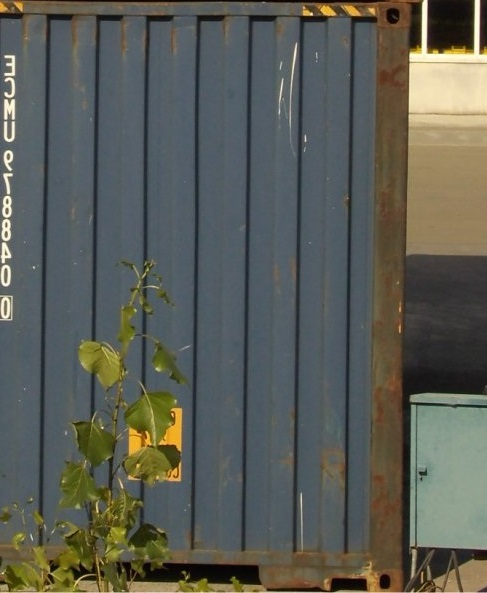container_no_door: (6, 4, 412, 574)
